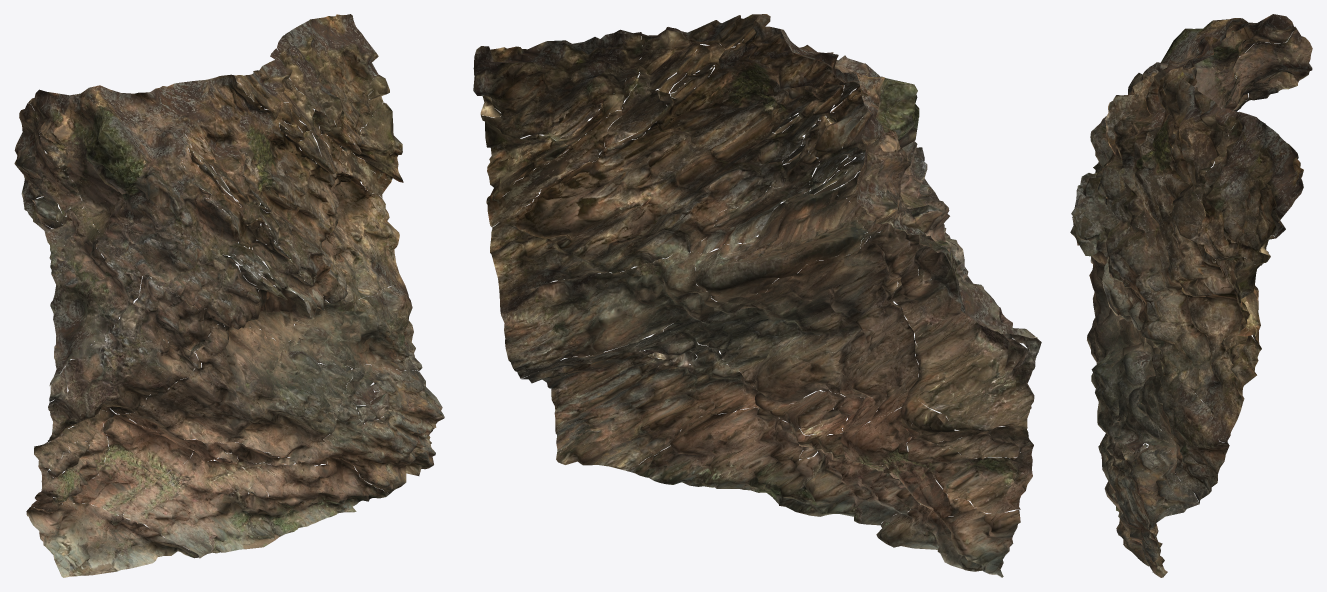
File: mountainside.glb
The picture shows the model from 3 angles, left to right: view 1: azimuth 30°, elevation 25°; view 2: azimuth 150°, elevation 25°; view 3: azimuth 270°, elevation 25°; orthographic projection. The views are drawn at different scales.
Visible parts, largest first — view 1: mountainside; view 2: mountainside; view 3: mountainside.
Part boxes in pixels (box(x1,y1,x2,y2)): mountainside: box(14, 14, 444, 577); mountainside: box(473, 14, 1041, 577); mountainside: box(1070, 14, 1312, 577).
Bounding box in the file's own units: 10.21 × 10.52 × 5.27.
1 material, 1 textured.
